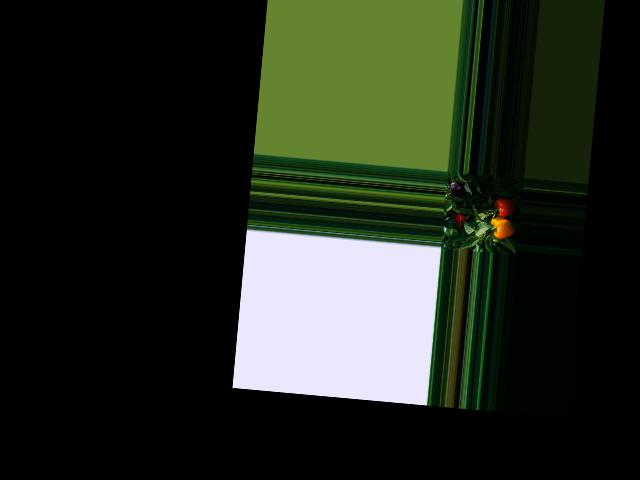bell_pepper: (488, 211, 515, 240)
